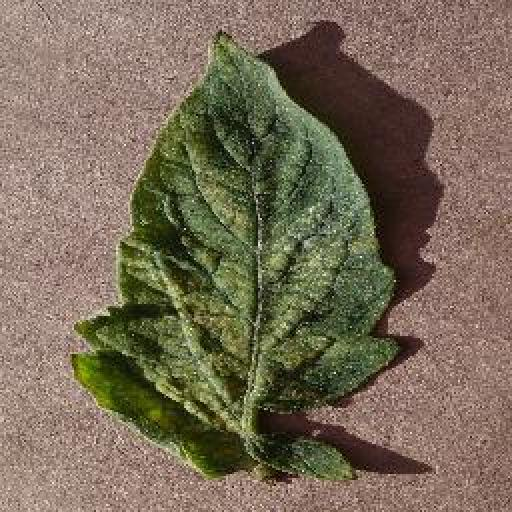disease_tomato: (69, 25, 396, 484)
